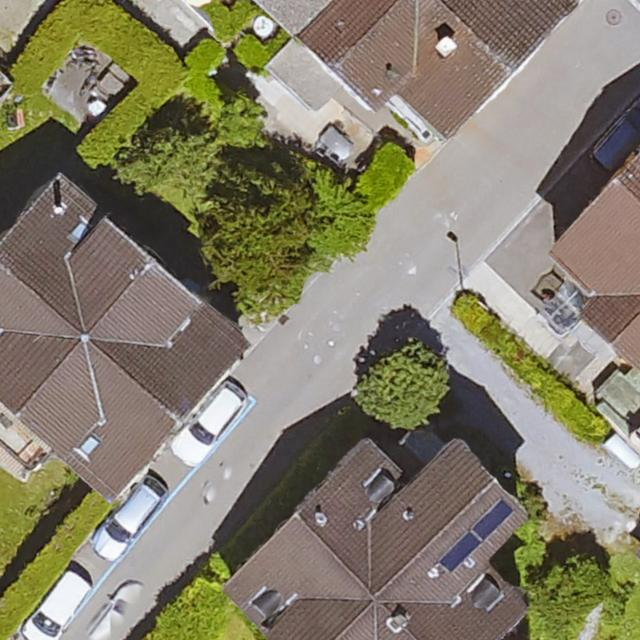tree: (198, 169, 312, 314), (356, 343, 448, 428), (296, 164, 372, 257), (138, 127, 223, 193), (524, 556, 610, 616), (216, 90, 267, 147)
